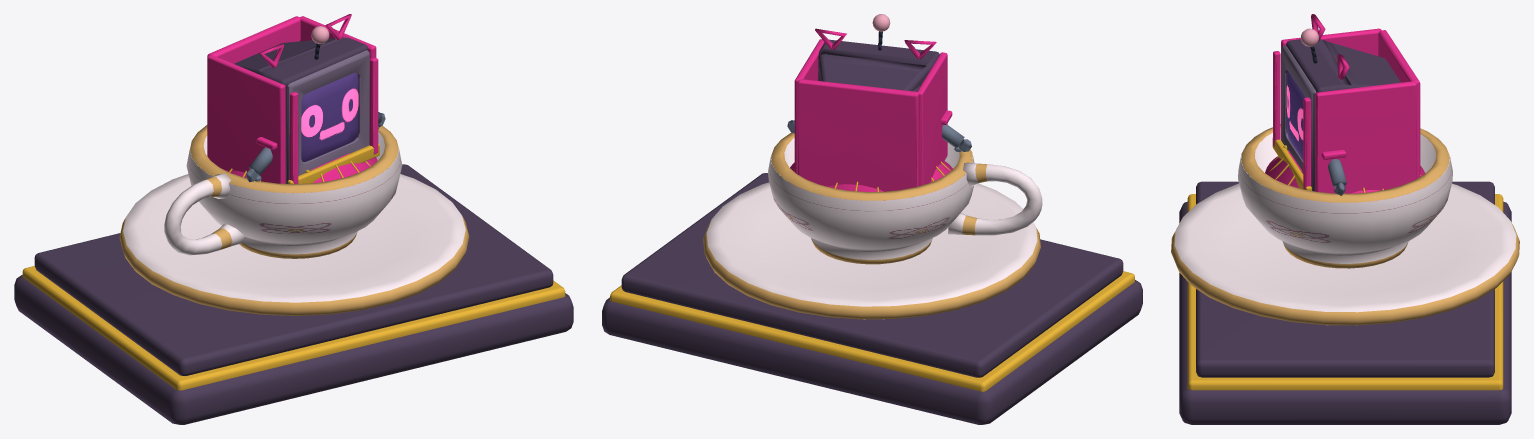
The model's file is kart.outfit.ballerina.glb.
3 views of the same model, side by side, from view 1: azimuth 30°, elevation 25°; view 2: azimuth 150°, elevation 25°; view 3: azimuth 270°, elevation 25° (orthographic). The views are drawn at different scales.
Parts seen in each view (by area): view 1: emi_teacup_mesh, stand_display_top, stand_display_base, stand_brass_band, jacket_side.001, jacket_back, waist_band, front_open_edge, front_open_edge.001, pleated_tutu, jacket_side; view 2: emi_teacup_mesh, stand_display_top, stand_display_base, jacket_back, stand_brass_band, jacket_side.001, jacket_side, pleated_tutu; view 3: emi_teacup_mesh, stand_display_top, stand_display_base, jacket_side, stand_brass_band, jacket_back, jacket_side.001, front_open_edge, front_open_edge.001, pleated_tutu, waist_band.
Boxes of the visible parts, box(x1,y1,x2,y2) form: emi_teacup_mesh: box(119, 26, 469, 315); stand_display_top: box(34, 164, 553, 375); stand_display_base: box(14, 275, 573, 424); stand_brass_band: box(22, 266, 565, 390); jacket_side.001: box(207, 55, 285, 183); jacket_back: box(207, 16, 300, 63); waist_band: box(287, 144, 379, 183); front_open_edge: box(369, 57, 378, 154); front_open_edge.001: box(289, 92, 298, 183); pleated_tutu: box(225, 153, 377, 193); jacket_side: box(299, 16, 376, 58); emi_teacup_mesh: box(703, 14, 1042, 319); stand_display_top: box(621, 173, 1123, 377); stand_display_base: box(602, 280, 1142, 424); jacket_back: box(798, 79, 918, 191); stand_brass_band: box(610, 271, 1134, 391); jacket_side.001: box(917, 52, 947, 185); jacket_side: box(794, 39, 824, 174); pleated_tutu: box(790, 161, 952, 200); emi_teacup_mesh: box(1171, 28, 1519, 325); stand_display_top: box(1196, 181, 1494, 377); stand_display_base: box(1179, 201, 1511, 424); jacket_side: box(1315, 81, 1416, 193); stand_brass_band: box(1187, 194, 1503, 390); jacket_back: box(1378, 30, 1420, 178); jacket_side.001: box(1281, 28, 1381, 140); front_open_edge: box(1303, 97, 1311, 189); front_open_edge.001: box(1273, 51, 1280, 146); pleated_tutu: box(1265, 150, 1425, 201); waist_band: box(1272, 138, 1311, 190).
Size of the model in its own units: 0.64 by 0.4647 by 0.48.
Materials: 4 (2 with a texture image).
